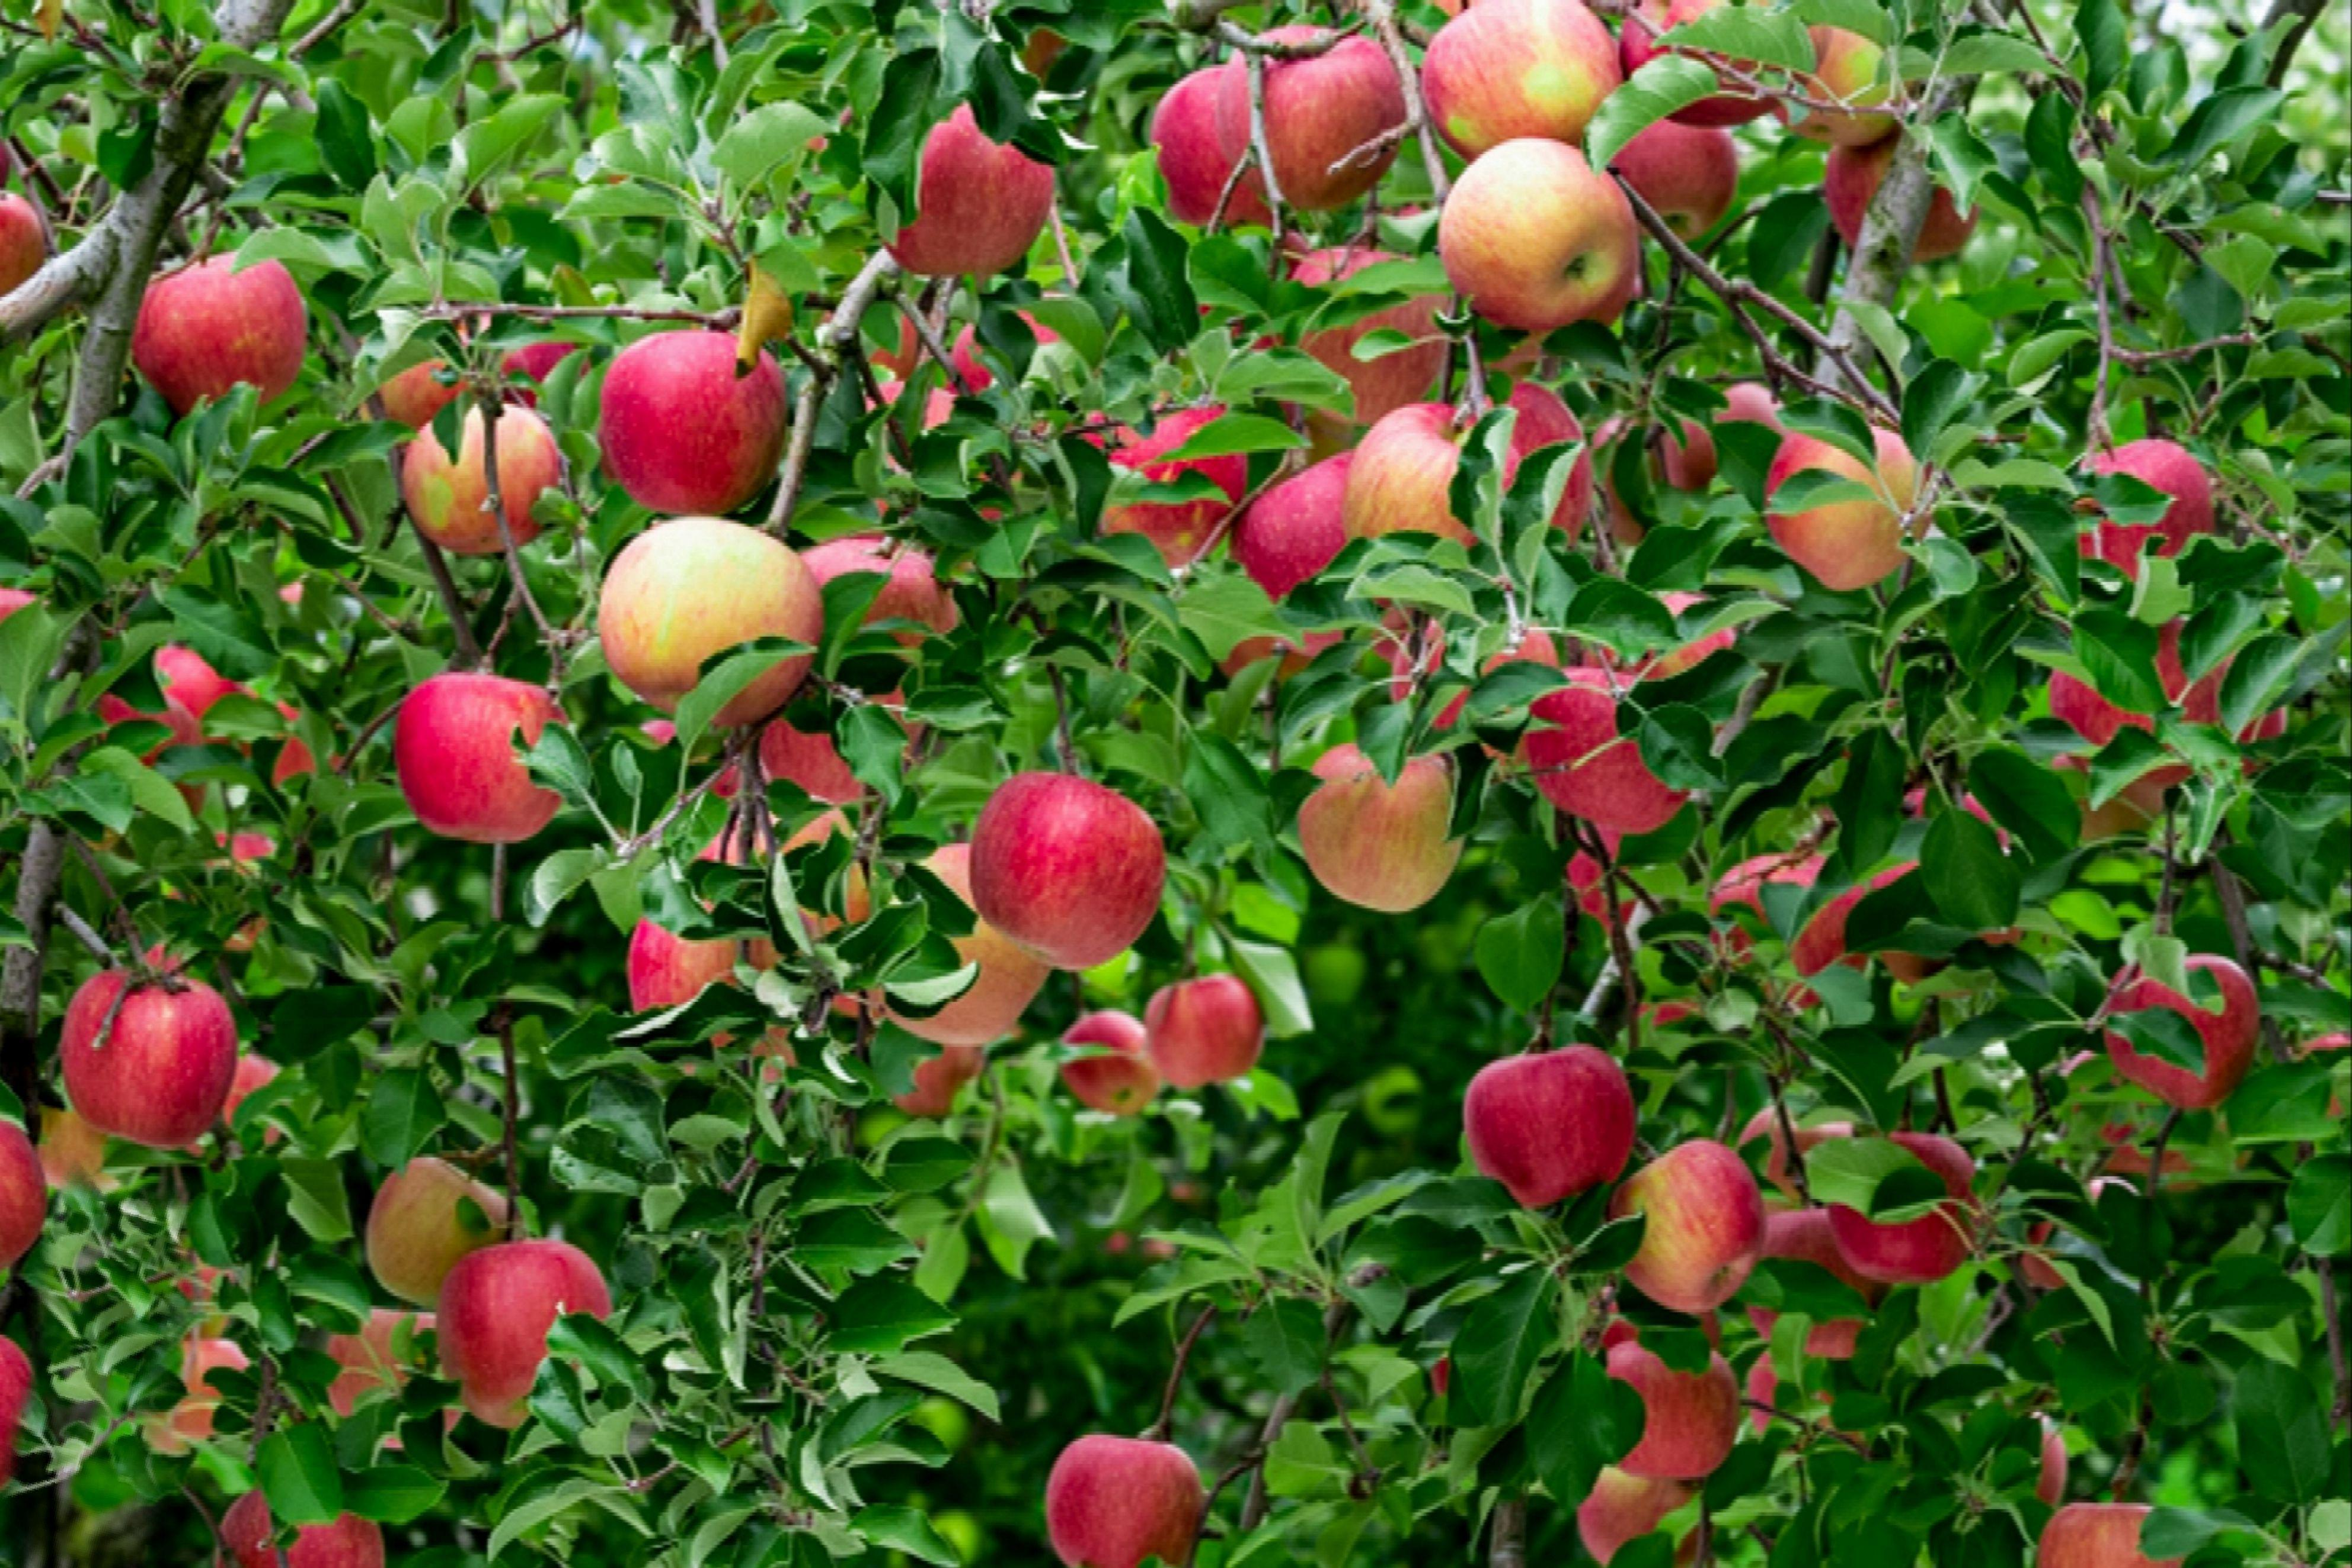apple: (597, 516, 814, 712), (1435, 133, 1638, 331), (966, 772, 1166, 971), (1209, 23, 1412, 217), (599, 327, 788, 516), (1743, 402, 1923, 593), (872, 105, 1062, 285), (432, 1237, 609, 1430), (58, 962, 238, 1148), (1418, 2, 1624, 163), (388, 668, 567, 845), (1531, 663, 1699, 840), (1613, 1136, 1771, 1323), (394, 385, 569, 551), (1468, 1043, 1643, 1207), (1300, 735, 1465, 908), (129, 254, 305, 415), (2102, 941, 2256, 1113), (1029, 1426, 1215, 1568), (361, 1157, 511, 1307), (1829, 1136, 1974, 1279), (1594, 1337, 1741, 1477), (1342, 399, 1470, 544), (1594, 112, 1743, 234), (2081, 436, 2207, 576), (1234, 457, 1356, 598), (1143, 971, 1260, 1088), (1654, 420, 1717, 490)
